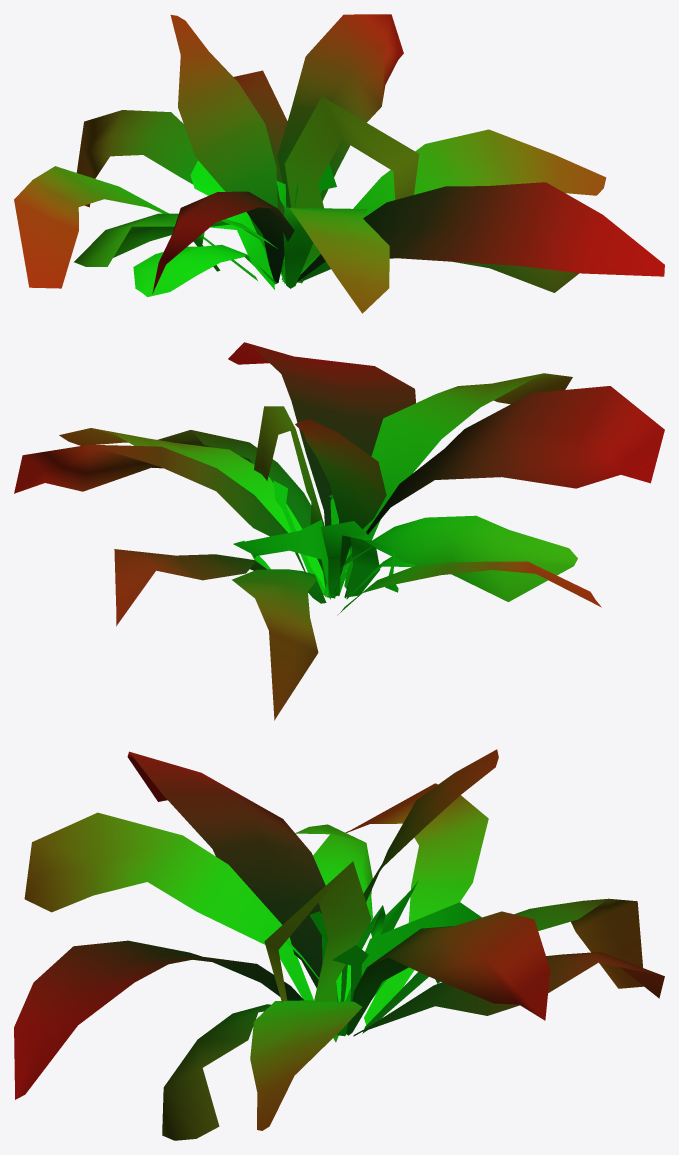
The model's file is Fern_LOD1_Var2_rmAsg.fbx.
The picture shows the model from 3 angles, top to bottom: view 1: azimuth 30°, elevation 25°; view 2: azimuth 150°, elevation 25°; view 3: azimuth 270°, elevation 25°; orthographic projection. The views are drawn at different scales.
Visible parts, largest first — view 1: _470d_Var2_LOD1; view 2: _470d_Var2_LOD1; view 3: _470d_Var2_LOD1.
Boxes of the visible parts, x1,y1,x2,y2 form: _470d_Var2_LOD1: (14, 14, 664, 313); _470d_Var2_LOD1: (14, 342, 664, 720); _470d_Var2_LOD1: (14, 749, 664, 1140).
Size of the model in its own units: 179 by 72.92 by 165.
